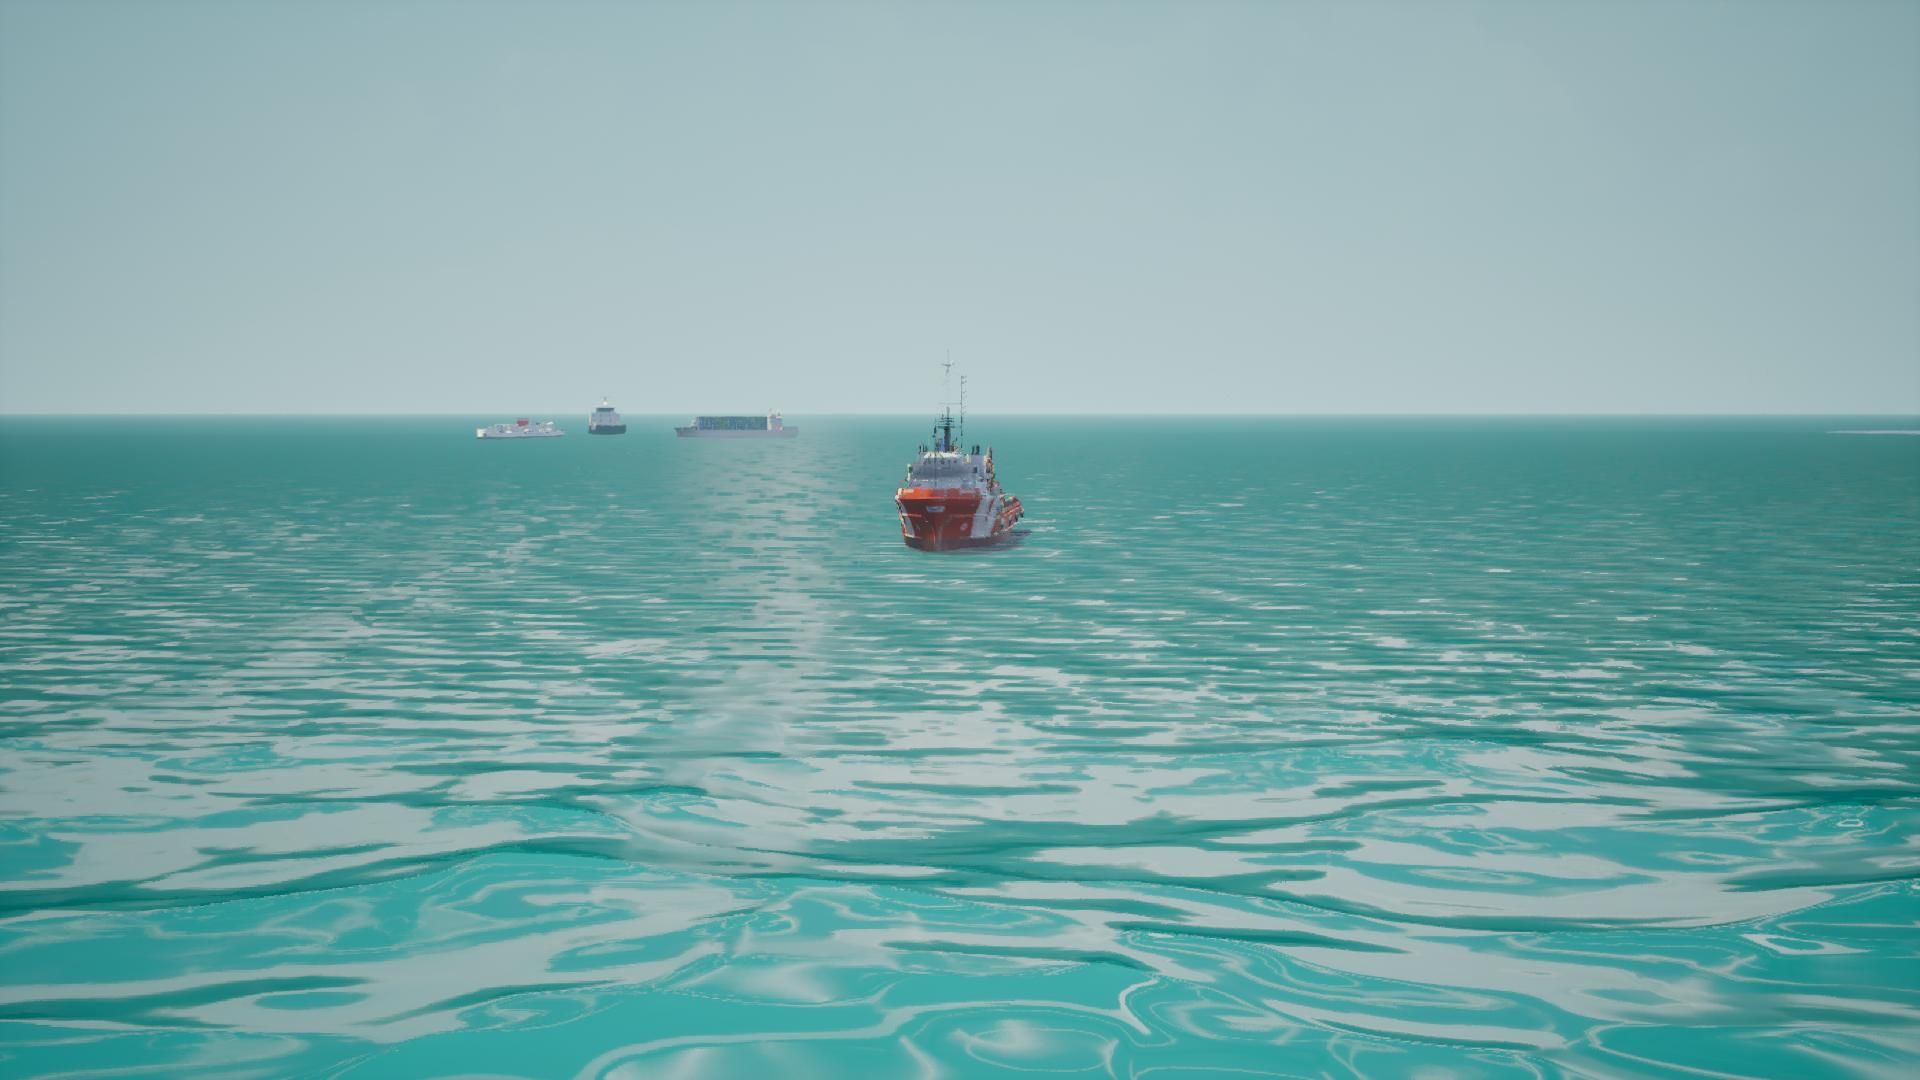Tug Boat: (891, 349, 1025, 553)
